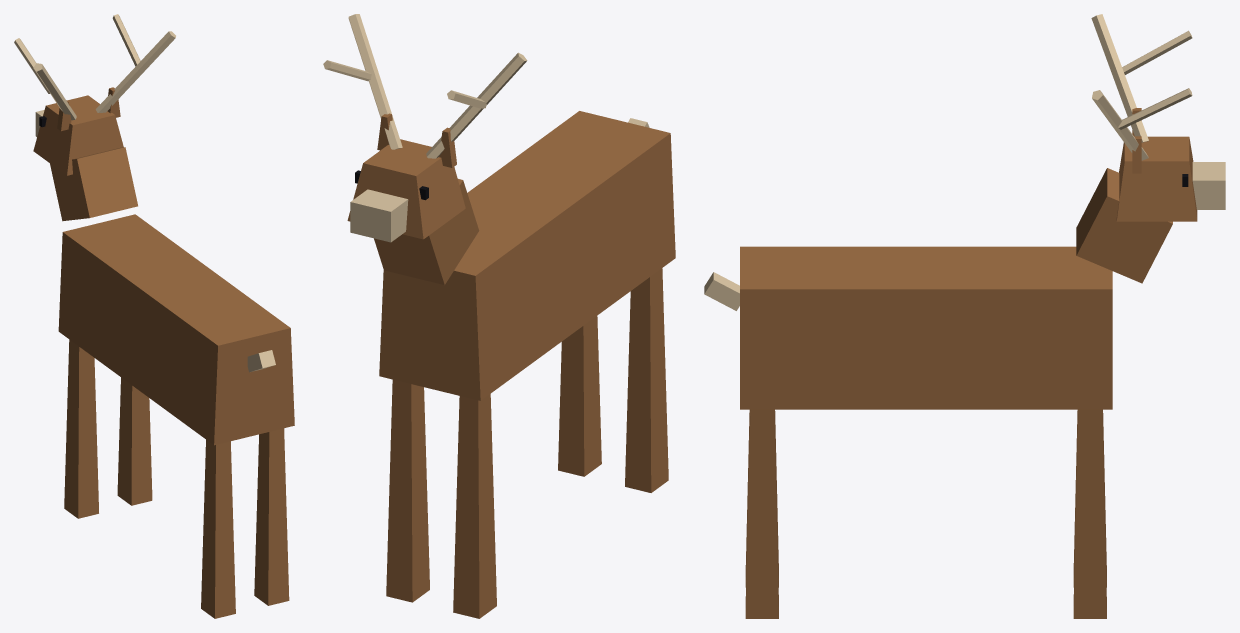
The model's file is animal_deer.glb.
3 renders of one model, left to right at view 1: azimuth 30°, elevation 25°; view 2: azimuth 150°, elevation 25°; view 3: azimuth 270°, elevation 25°, orthographic. The views are drawn at different scales.
Parts seen in each view (by area): view 1: animal_deer__mesh; view 2: animal_deer__mesh; view 3: animal_deer__mesh.
Boxes of the visible parts, x1,y1,x2,y2 form: animal_deer__mesh: (14,14,294,618); animal_deer__mesh: (323,14,675,618); animal_deer__mesh: (704,14,1225,618).
Size of the model in its own units: 0.6313 by 1.94 by 1.68.
